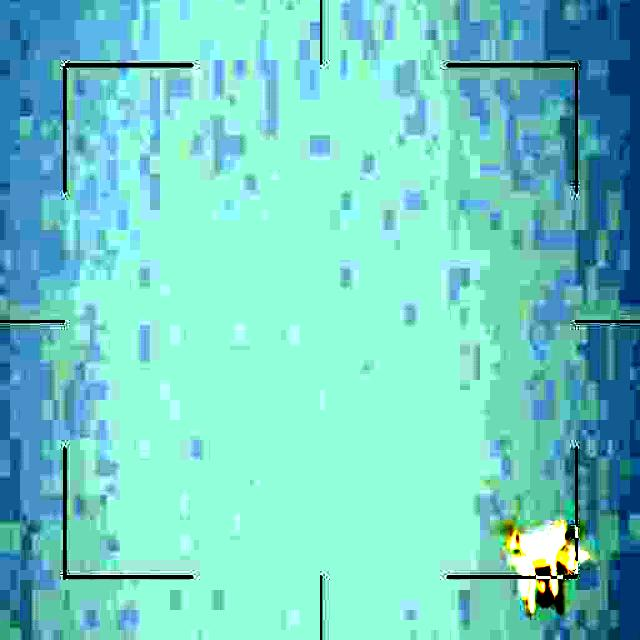bird: (496, 520, 584, 612)
